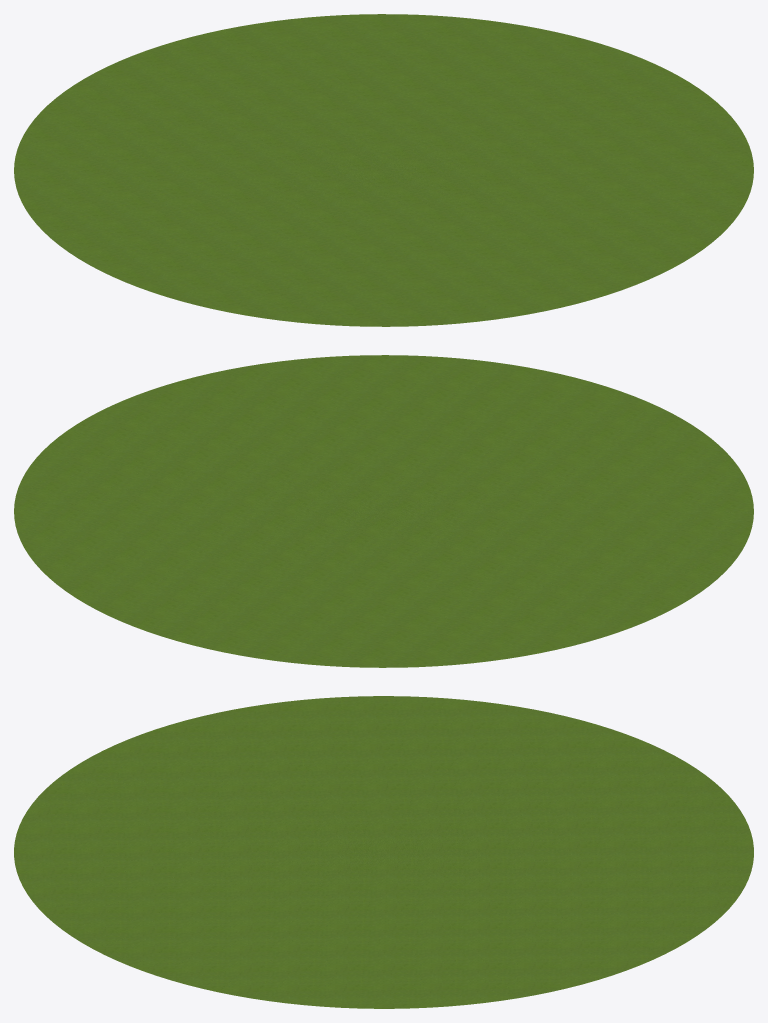
The model's file is field_spring_ground_grass.fbx.
The picture shows the model from 3 angles, top to bottom: view 1: azimuth 30°, elevation 25°; view 2: azimuth 150°, elevation 25°; view 3: azimuth 270°, elevation 25°; orthographic projection.
Visible parts, largest first — view 1: field_spring_ground_grass; view 2: field_spring_ground_grass; view 3: field_spring_ground_grass.
Boxes of the visible parts, box(x1,y1,x2,y2) form: field_spring_ground_grass: box(14, 14, 753, 326); field_spring_ground_grass: box(14, 355, 753, 667); field_spring_ground_grass: box(14, 696, 753, 1008).
Size of the model in its own units: 6745 by 0 by 6745.
1 material, 1 textured.
